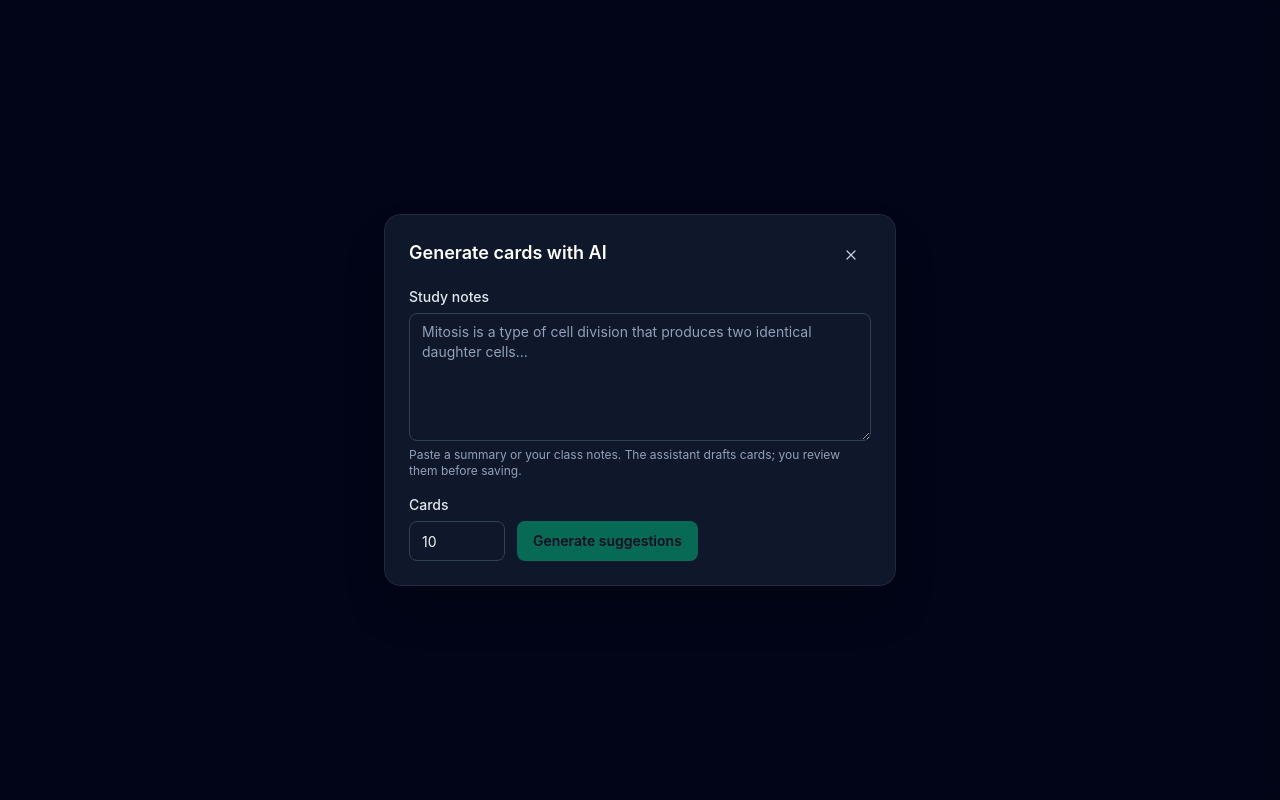
Scenario: GenerateCardsModal › surfaces a disabled provider
This screenshot has width=1280, height=800.
In the text box labelled "Study notes": (640, 377) left=409, top=313, right=871, bottom=441, type "Mitosis is a type of cell division that produces two identical daughter cells."
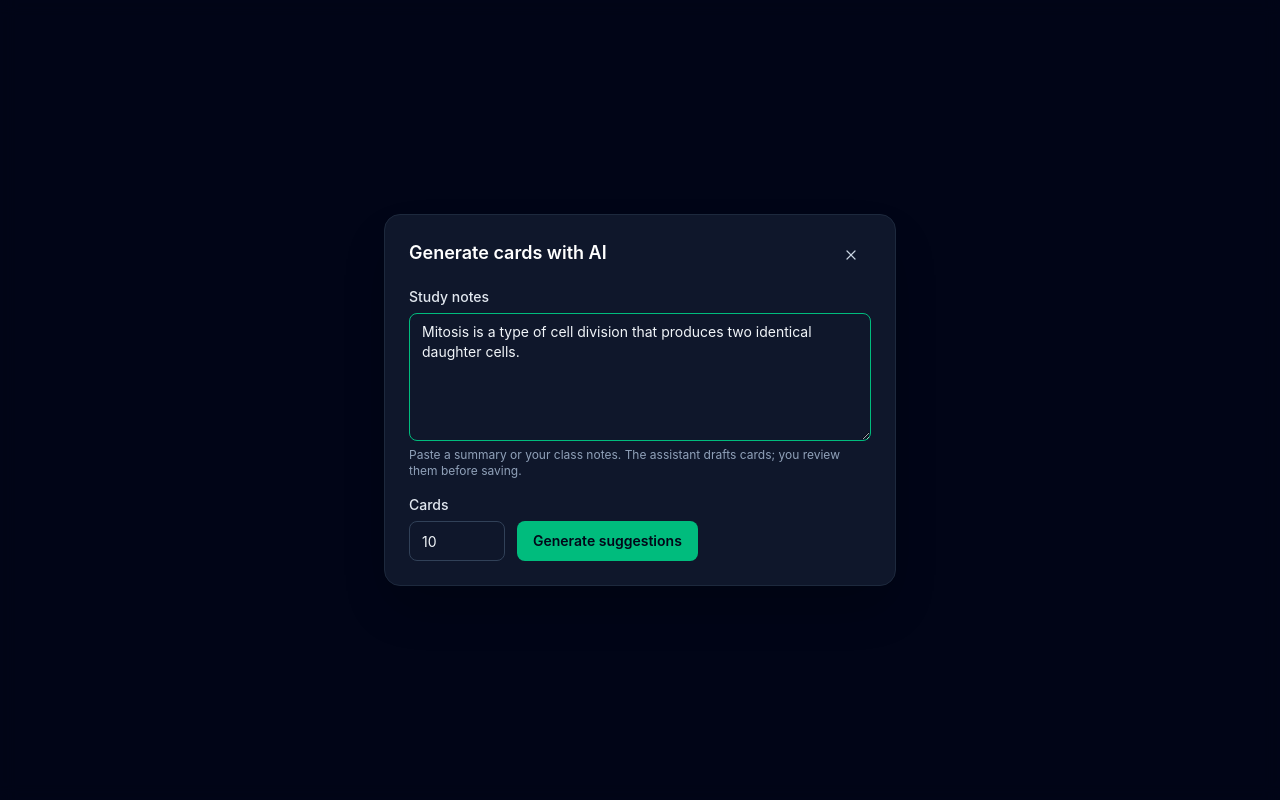
Click the button "Generate suggestions": (607, 541) left=517, top=521, right=698, bottom=561
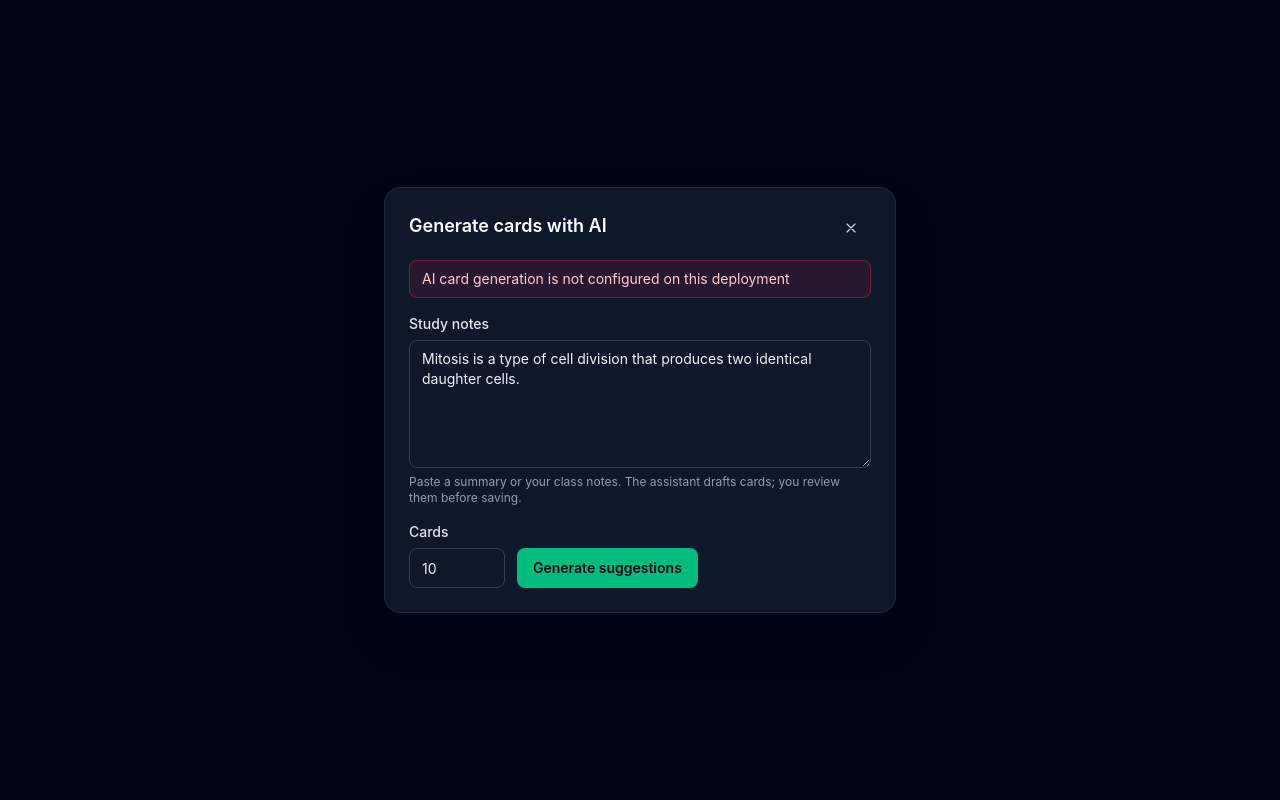
Expected: the text "AI card generation is not configured on this deployment" is shown, left=409, top=260, right=871, bottom=298
